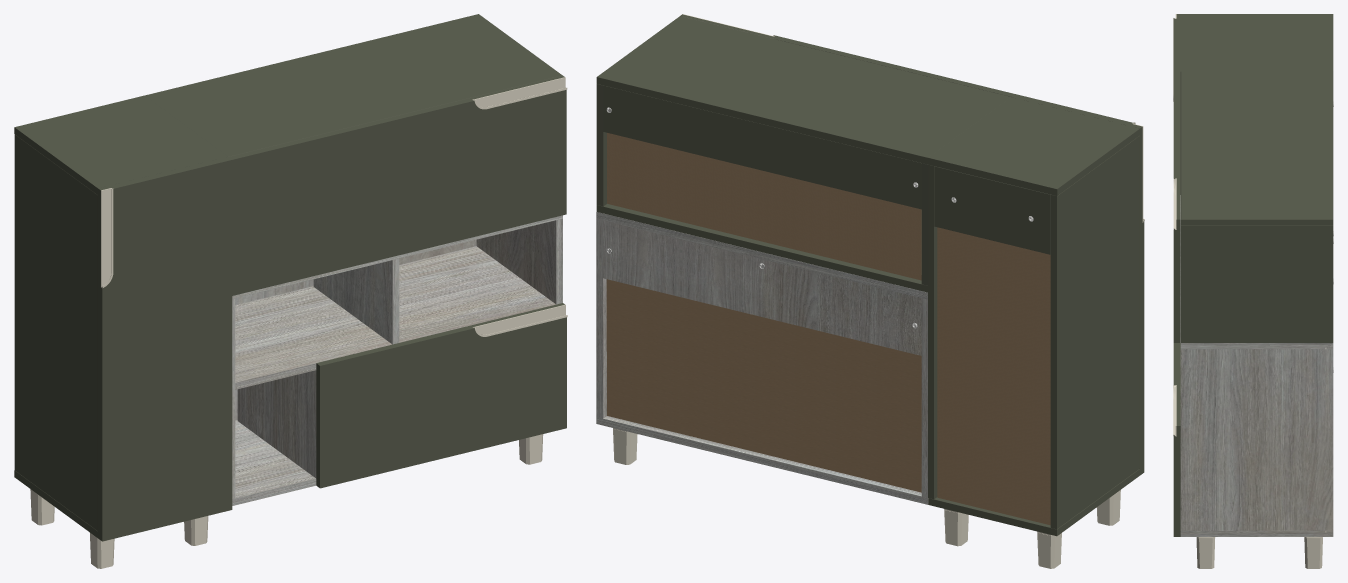
3 renders of one model, left to right at view 1: azimuth 30°, elevation 25°; view 2: azimuth 150°, elevation 25°; view 3: azimuth 270°, elevation 25°, orthographic. The views are drawn at different scales.
Parts seen in each view (by area): view 1: group_0.044, Cube.003, group_0.301, group_0.004; view 2: Cube.003, group_0.044, group_0.008, group_0.090, group_0.301, group_0.136, group_0.004; view 3: group_0.044, group_0.301, Cube.003, group_0.004.
Boxes of the visible parts, x1,y1,x2,y2 form: group_0.044: [145, 14, 566, 488]; Cube.003: [14, 95, 232, 541]; group_0.301: [232, 215, 562, 505]; group_0.004: [30, 77, 567, 568]; Cube.003: [928, 94, 1144, 536]; group_0.044: [596, 14, 1014, 292]; group_0.008: [606, 279, 921, 492]; group_0.090: [937, 227, 1050, 525]; group_0.301: [596, 212, 928, 504]; group_0.136: [607, 133, 921, 280]; group_0.004: [613, 14, 1144, 568]; group_0.044: [1173, 71, 1333, 536]; group_0.301: [1180, 195, 1333, 536]; Cube.003: [1173, 14, 1333, 194]; group_0.004: [1173, 14, 1322, 568].
Size of the model in its own units: 1.25 by 1 by 0.4116.
Materials: 7 (2 with a texture image).
